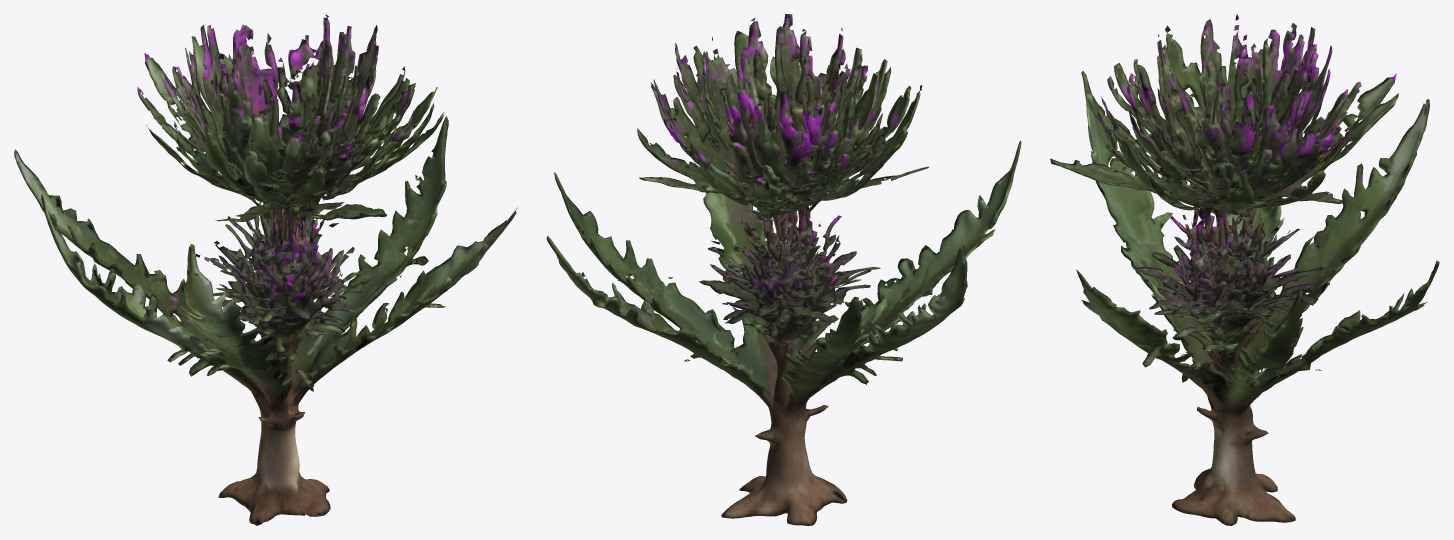
File: milkthistle.glb
3 views of the same model, side by side, from view 1: azimuth 30°, elevation 25°; view 2: azimuth 150°, elevation 25°; view 3: azimuth 270°, elevation 25° (orthographic).
Size of the model in its own units: 1.85 by 2 by 1.52.
1 material, 1 textured.
